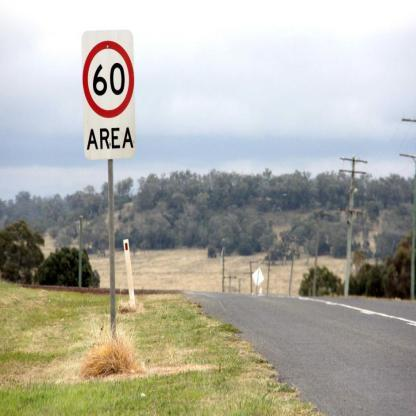Speed Limit 60: (84, 41, 134, 117)
